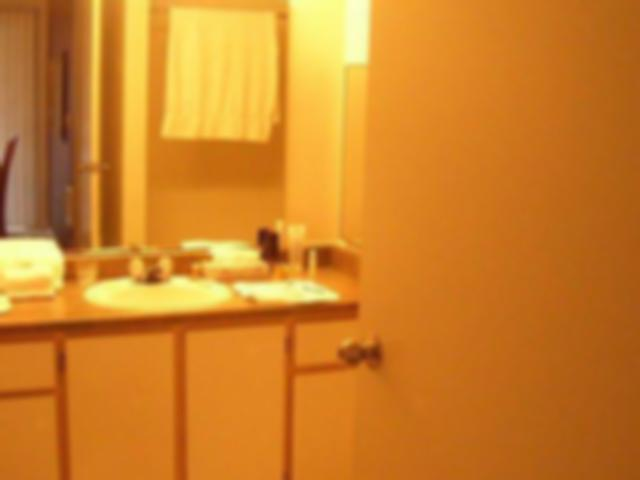Lavamanos: (75, 246, 242, 322)
Puerta: (349, 0, 640, 480)
